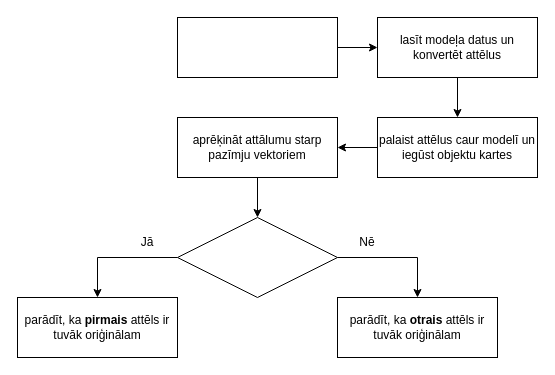
This 555x375 diagram has some shape labels left out. The shapes that lost their labels are listed below. From the top down, each one's centre as x and y in pixels, then its label:
(257,47): Ielādēt atsauces attēlu un divus attēlus ar palielinātu kvalitāti
(257,257): pirmajam attēlam ir mazāks attālums
